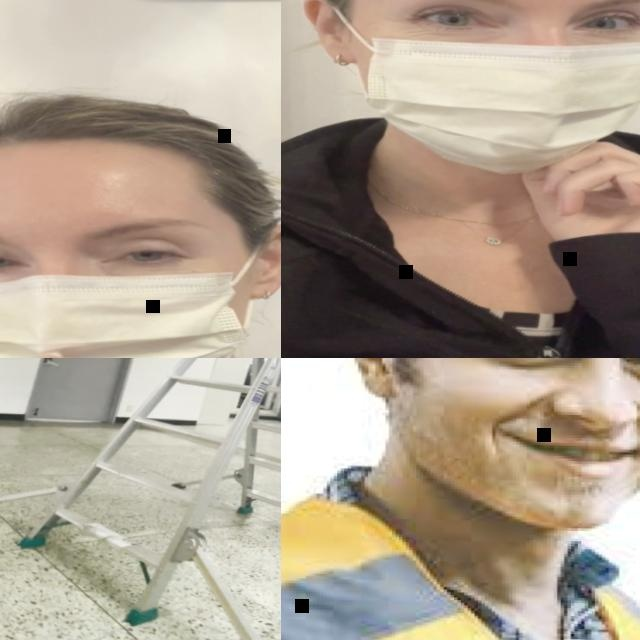Mask: (329, 0, 640, 168), (0, 220, 258, 358)
NO-Hardhat: (0, 90, 252, 193)
NO-Mask: (360, 360, 640, 529)
NO-Safety Vest: (281, 160, 640, 358)
Person: (281, 0, 640, 358), (281, 358, 640, 640), (0, 82, 281, 358)
Safety Vest: (281, 483, 640, 640)
